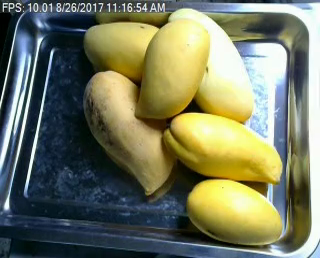Mango: (83, 70, 175, 192), (170, 9, 253, 120), (163, 111, 284, 184), (133, 18, 210, 117), (186, 179, 283, 245), (83, 20, 162, 78)
